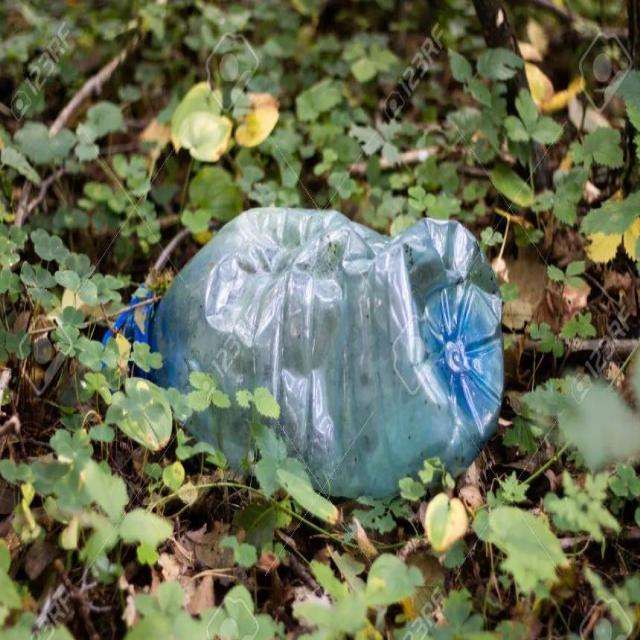bottle: (97, 197, 510, 512)
